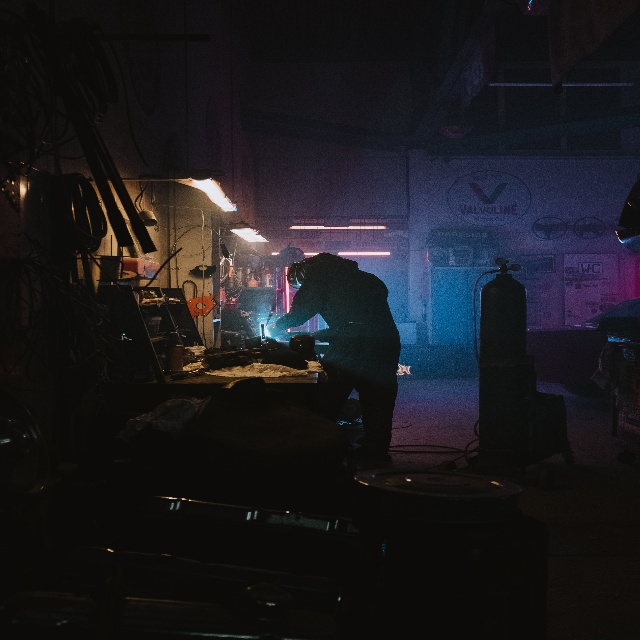Guantes: (281, 332, 317, 342), (264, 323, 280, 338)
